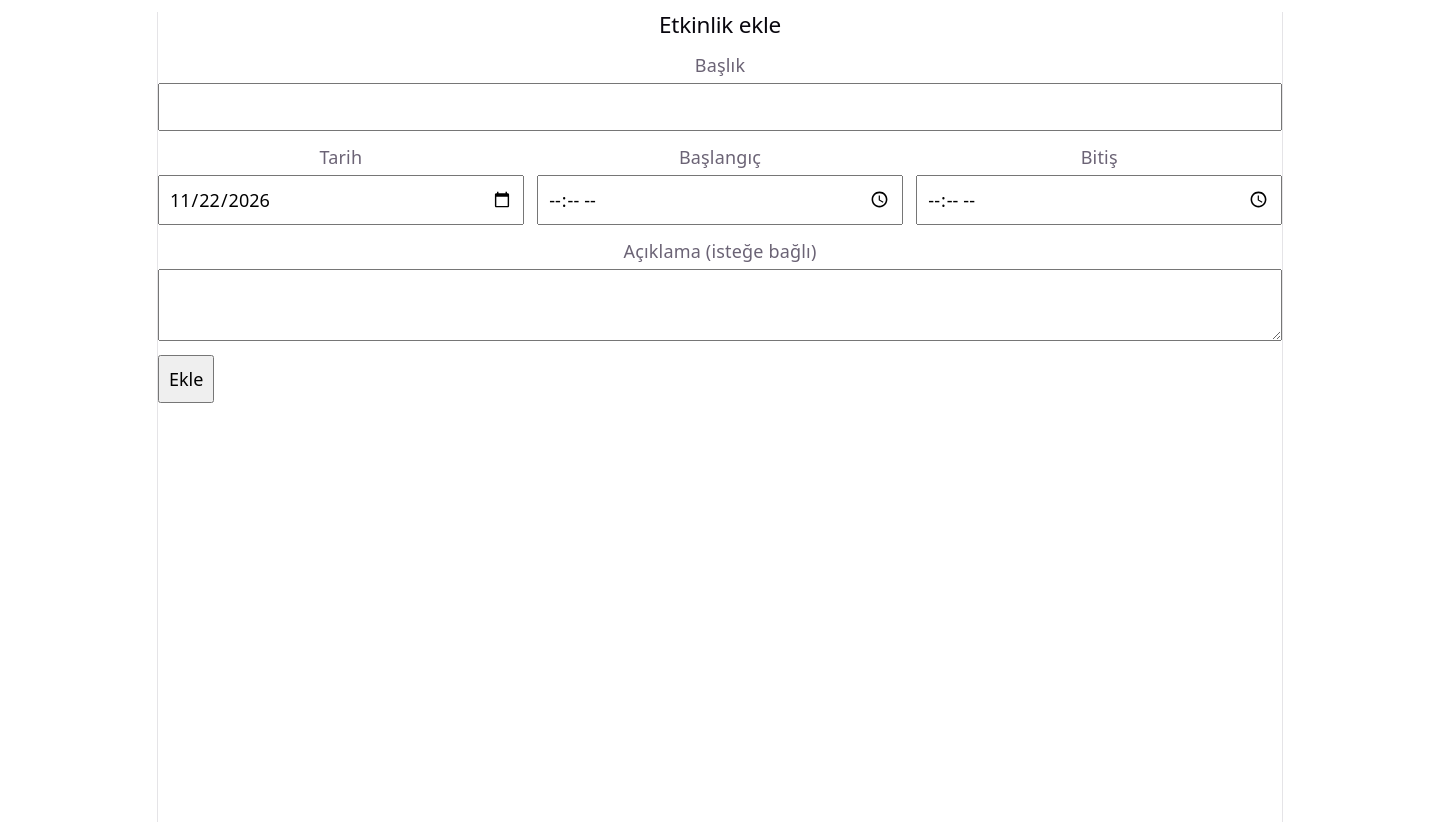
Test: AddEventForm checks (FR-M3-05) › shows the error from the server and keeps the input
Step 1. Type "Yüzme" into the field labelled "Başlık" → (720, 107), box [158,83,1282,131]
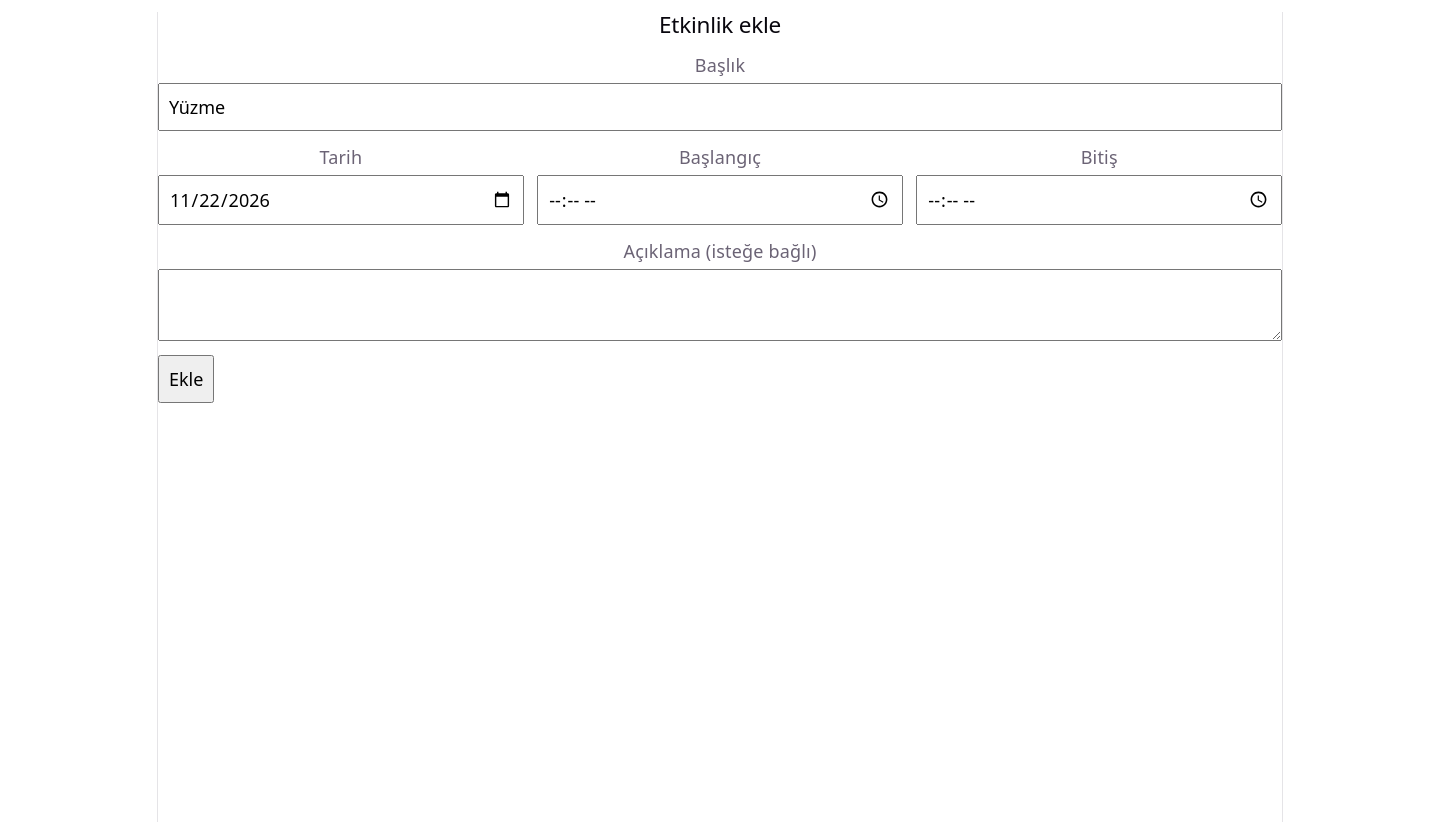
Step 2. Type "2026-11-20" into the date field labelled "Tarih" → (341, 200), box [158,175,524,225]
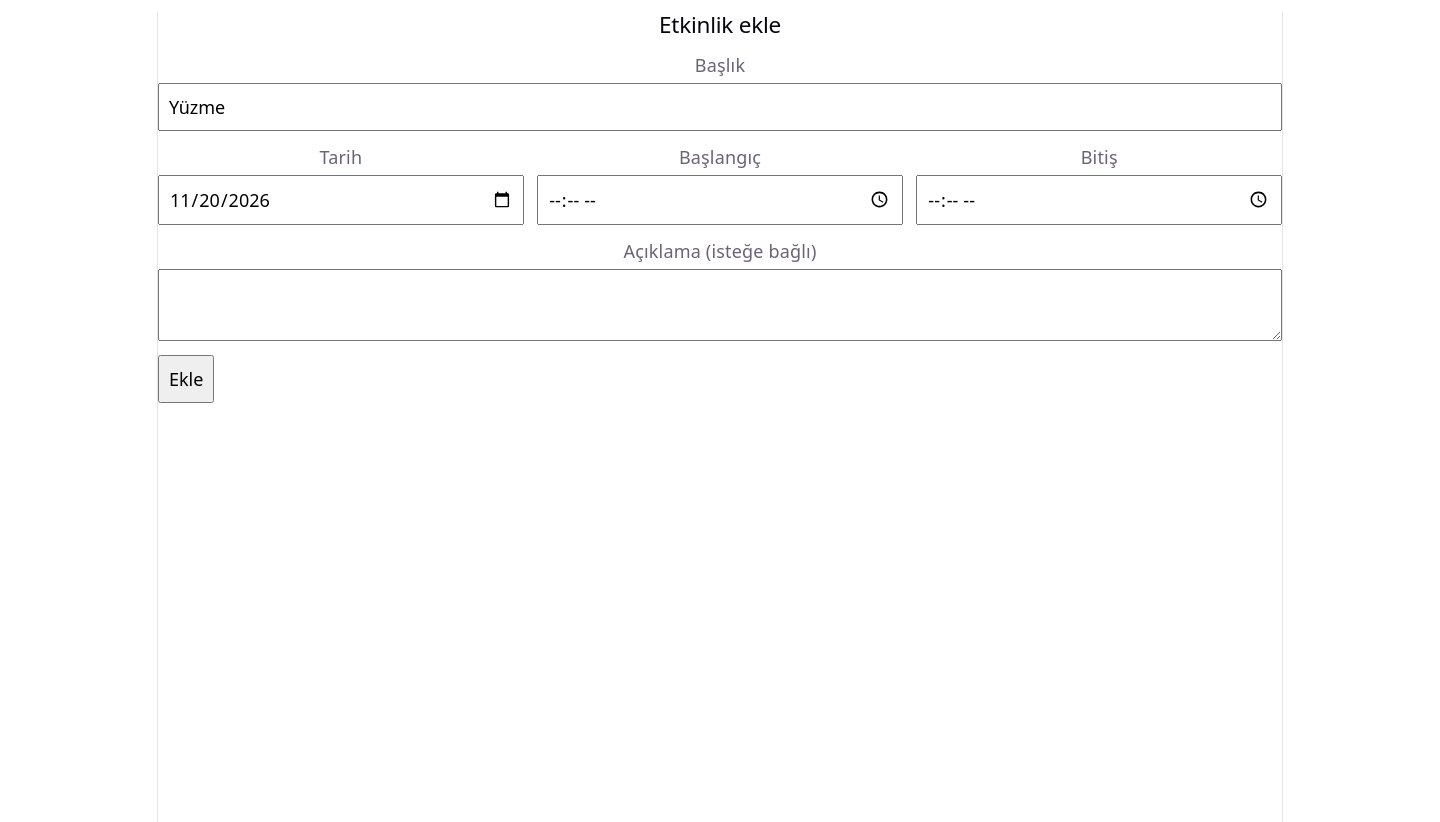
Step 3. Type "17:00" into the time field labelled "Başlangıç" → (720, 200), box [537,175,903,225]
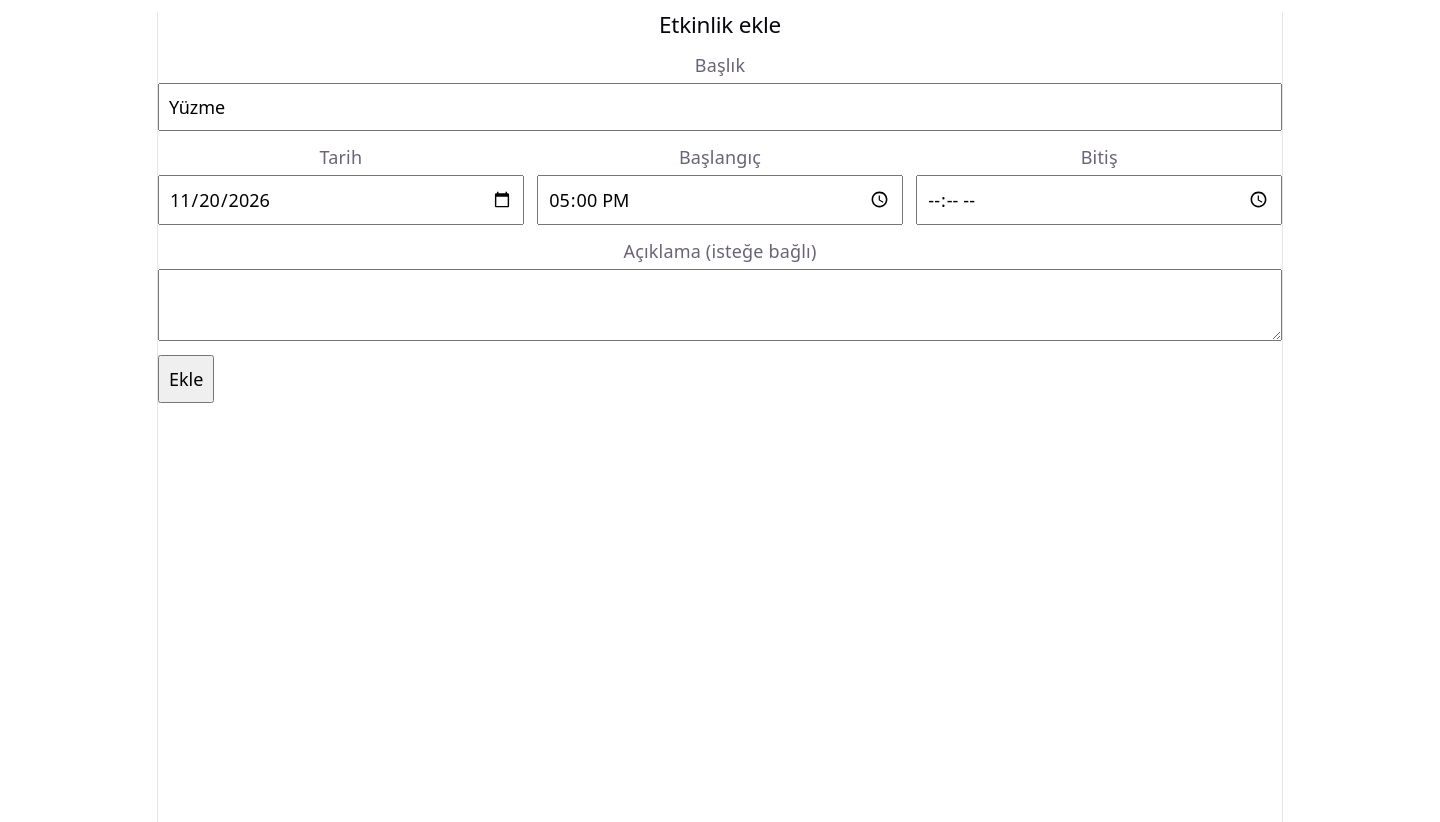
Step 4. Type "18:00" into the time field labelled "Bitiş" → (1099, 200), box [916,175,1282,225]
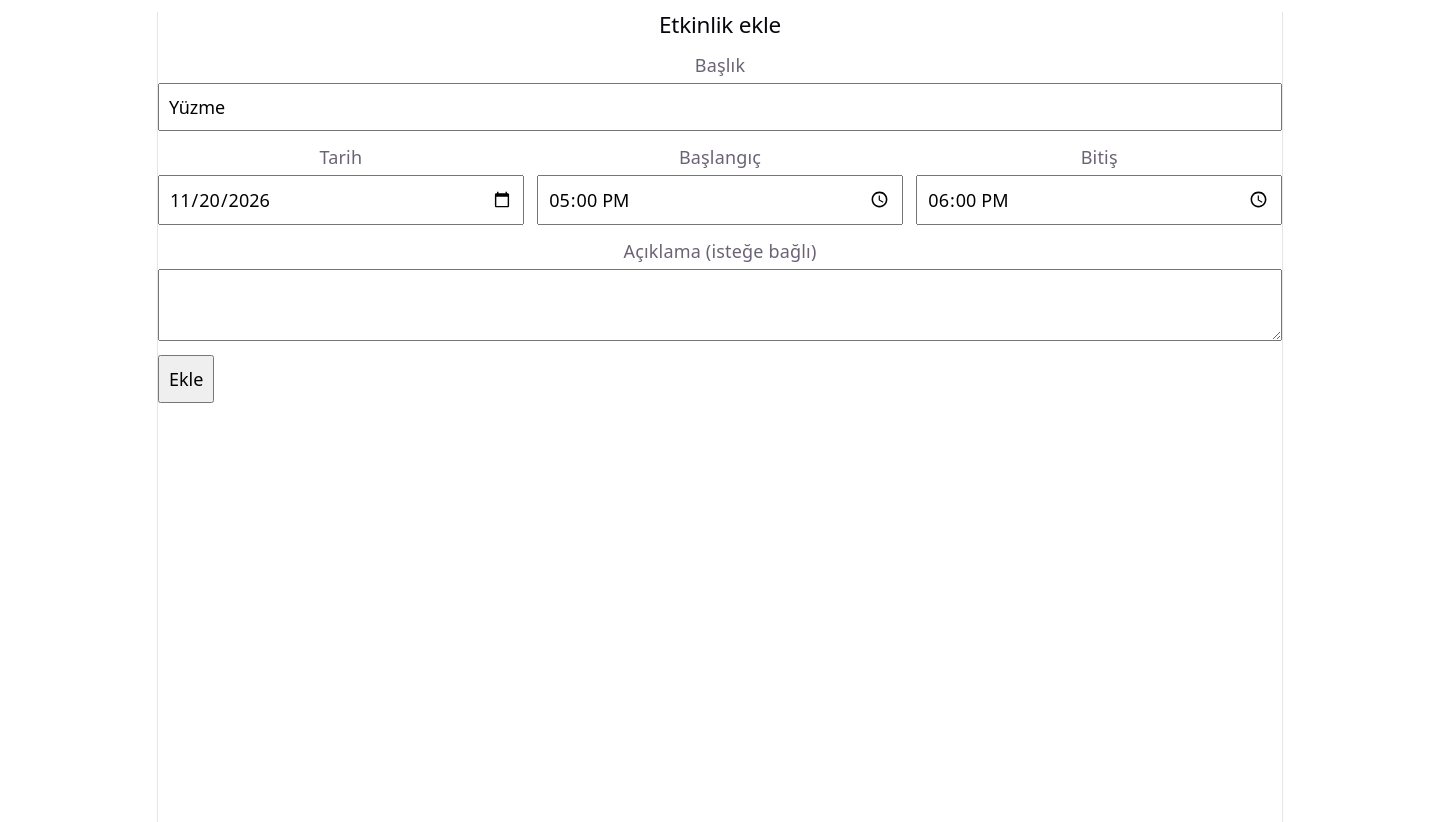
Step 5. Type "Havlu getir." into the text box labelled "Açıklama (isteğe bağlı)" → (720, 305), box [158,269,1282,341]
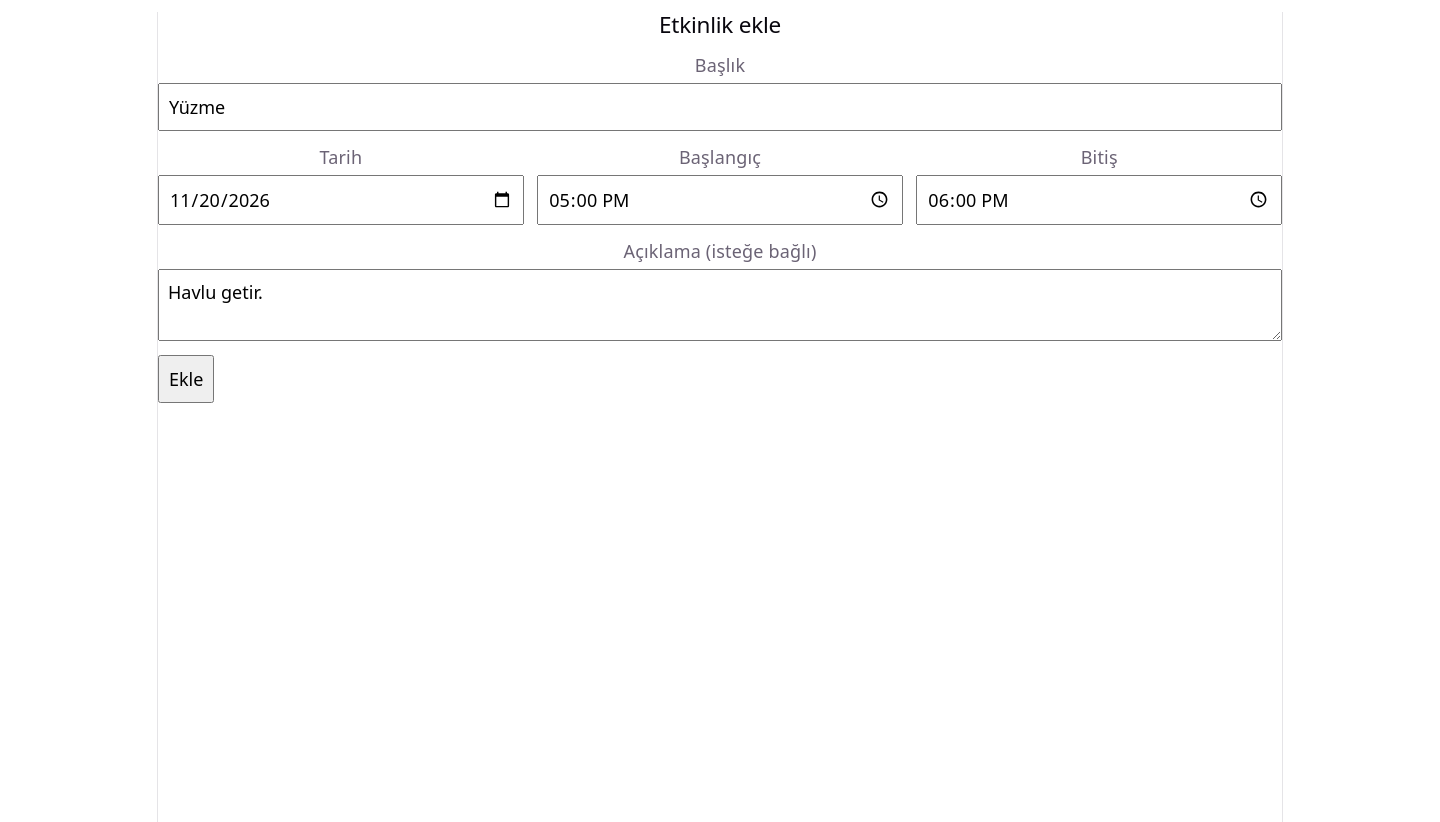
Step 6. Click the button "Ekle" → (186, 379), box [158,355,214,403]
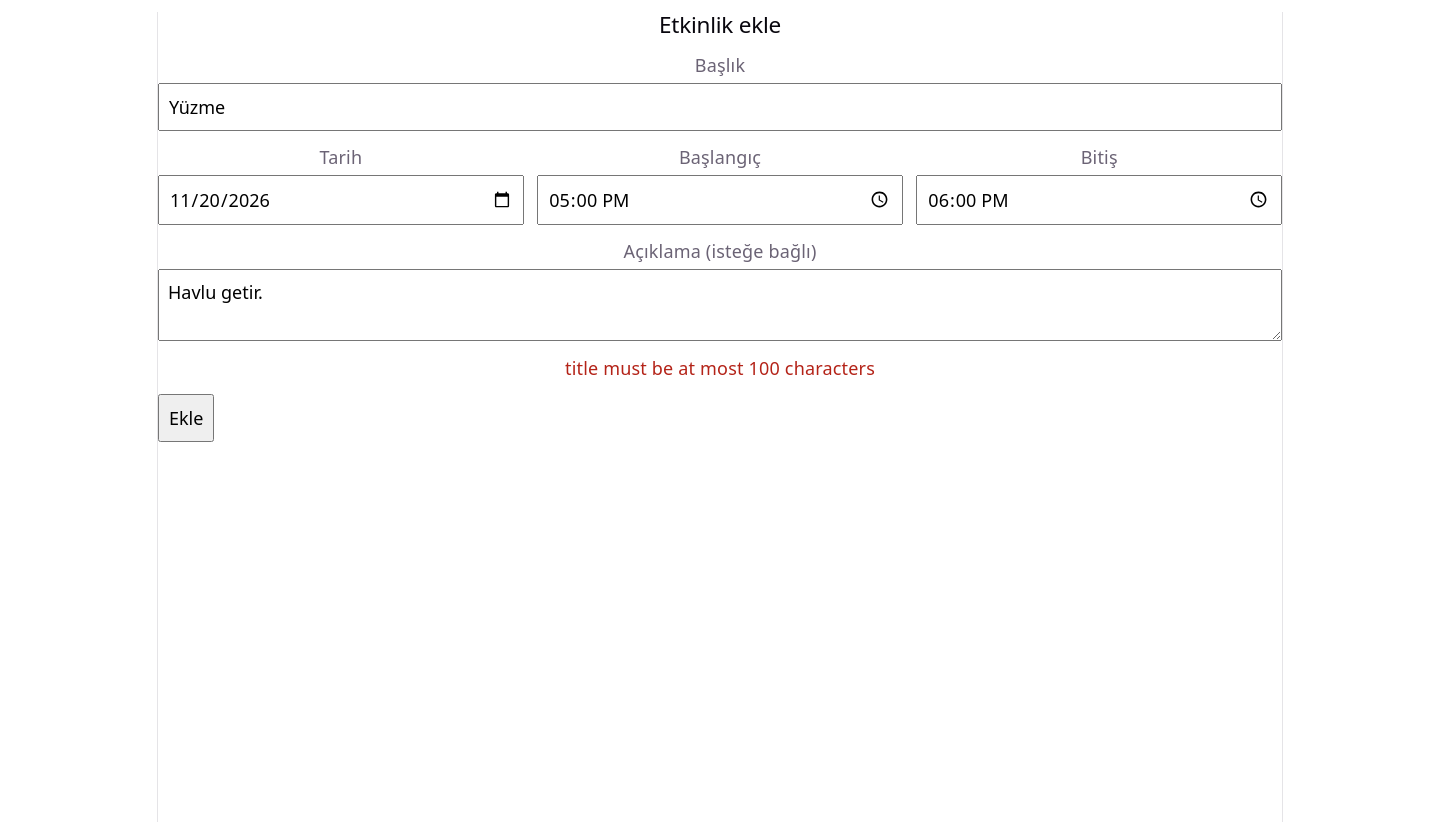
Check: the button "Ekle" is enabled, box [158,394,214,442]
Check: the message reads "title must be at most 100 characters", box [565,356,875,380]
